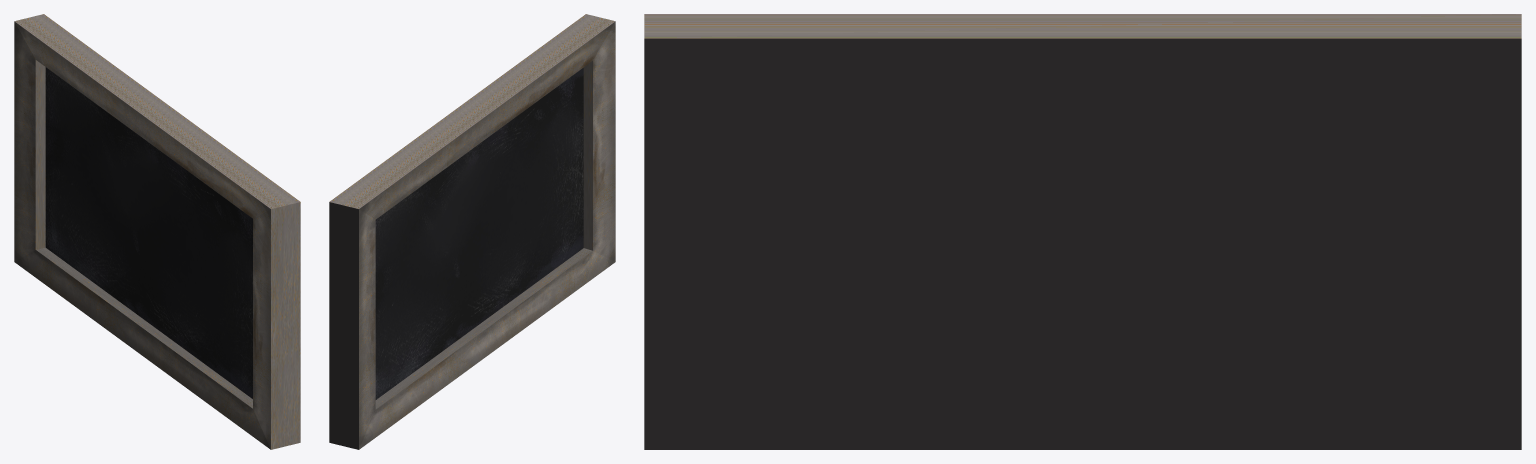
File: timer_modell.FBX
The picture shows the model from 3 angles, left to right: view 1: azimuth 30°, elevation 25°; view 2: azimuth 150°, elevation 25°; view 3: azimuth 270°, elevation 25°; orthographic projection. The views are drawn at different scales.
Visible parts, largest first — view 1: TIMER; view 2: TIMER; view 3: TIMER.
Part boxes in pixels (x1=…): TIMER: x1=14, y1=14, x2=300, y2=449; TIMER: x1=329, y1=14, x2=615, y2=449; TIMER: x1=644, y1=14, x2=1521, y2=449.
Bounding box in the file's own units: 1.17 × 9.09 × 17.57.
1 material, 1 textured.
